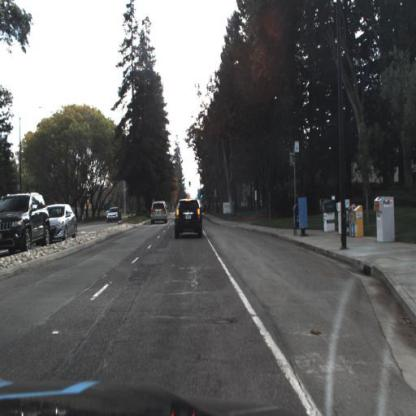car: (1, 195, 52, 255), (48, 200, 81, 240), (174, 198, 203, 242), (49, 202, 79, 242), (150, 200, 170, 227), (106, 202, 122, 227), (106, 202, 122, 223)
